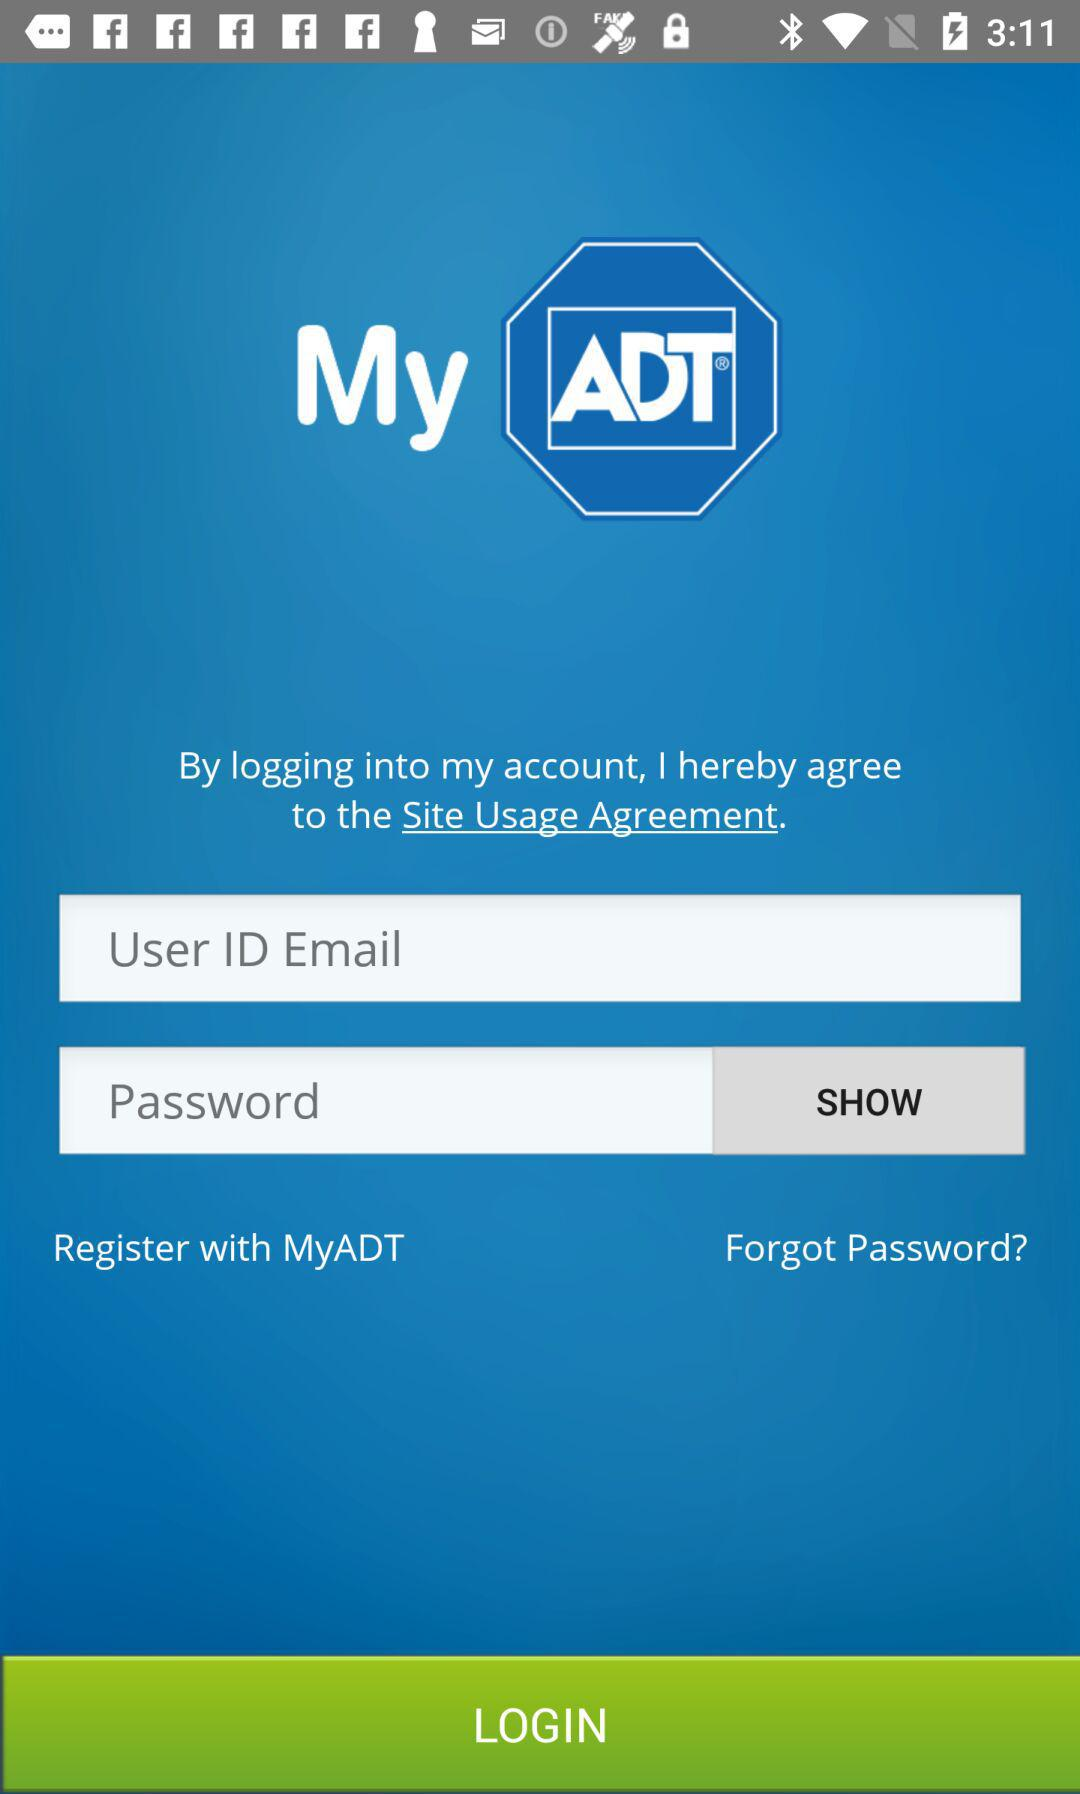EditText: (59, 894, 1022, 1003), (59, 1046, 714, 1156)
Image: (498, 236, 784, 524)
Text: (179, 750, 903, 841), (296, 323, 470, 454), (55, 1233, 406, 1272), (726, 1231, 1029, 1272), (111, 930, 400, 967), (111, 1082, 319, 1120)
TextButton: (1, 1656, 1080, 1794), (712, 1046, 1026, 1155)
UpperTaskBar: (1, 1, 1080, 64)
